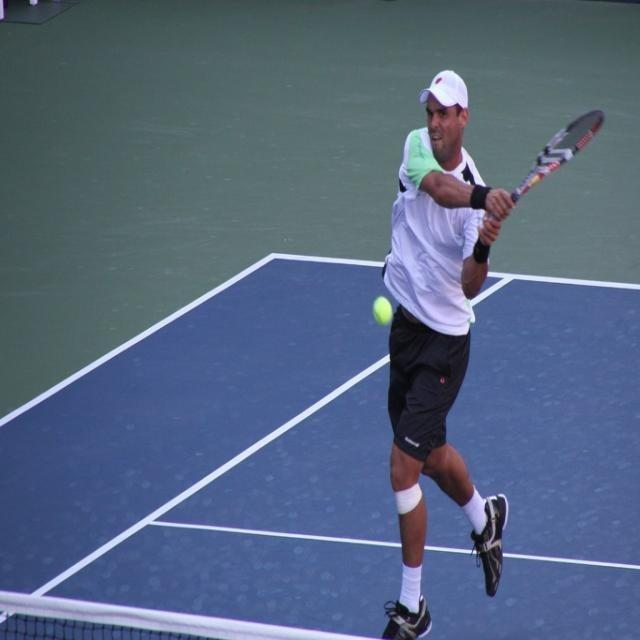ball: (372, 296, 393, 326)
